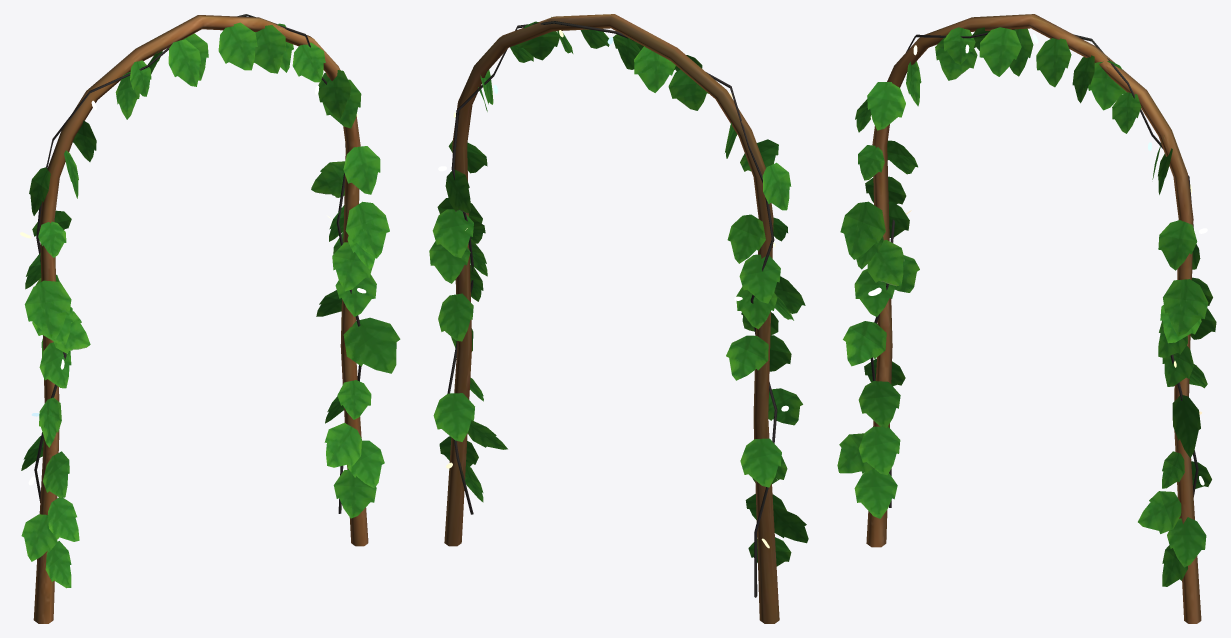
Rendered from ivy-arch.glb.
3 renders of one model, left to right at view 1: azimuth 30°, elevation 25°; view 2: azimuth 150°, elevation 25°; view 3: azimuth 330°, elevation 25°, orthographic.
Visible parts, largest first — view 1: pergola; view 2: pergola; view 3: pergola.
Part boxes in pixels (x1,y1,x2,y2): pergola: [20, 14, 400, 623]; pergola: [429, 14, 808, 623]; pergola: [837, 14, 1216, 623].
Bounding box in the file's own units: 4.92 × 7.19 × 0.8387.
Materials: 1 (1 with a texture image).
